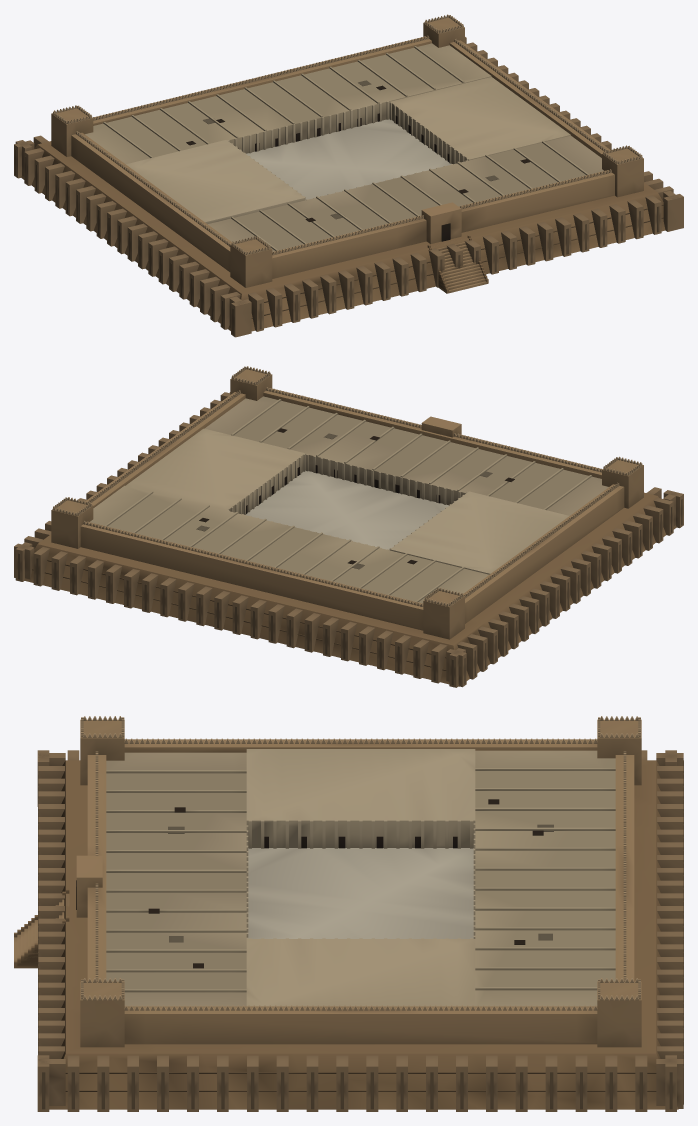
Rendered from summer-palace.glb.
3 views of the same model, one above another, from view 1: azimuth 30°, elevation 25°; view 2: azimuth 150°, elevation 25°; view 3: azimuth 270°, elevation 25° (orthographic). The views are drawn at different scales.
Parts seen in each view (by area): view 1: p1_palace, p0_platform, p2_crenellations; view 2: p1_palace, p0_platform, p2_crenellations; view 3: p1_palace, p0_platform, p2_crenellations.
Part boxes in pixels (x1=…): p1_palace: x1=51, y1=14, x2=643, y2=287; p0_platform: x1=14, y1=37, x2=683, y2=337; p2_crenellations: x1=76, y1=35, x2=611, y2=255; p1_palace: x1=51, y1=366, x2=643, y2=639; p0_platform: x1=14, y1=392, x2=683, y2=687; p2_crenellations: x1=83, y1=387, x2=619, y2=606; p1_palace: x1=76, y1=716, x2=641, y2=1047; p0_platform: x1=14, y1=750, x2=683, y2=1111; p2_crenellations: x1=95, y1=738, x2=626, y2=1010.
Size of the model in its own units: 203 by 29.14 by 181.
